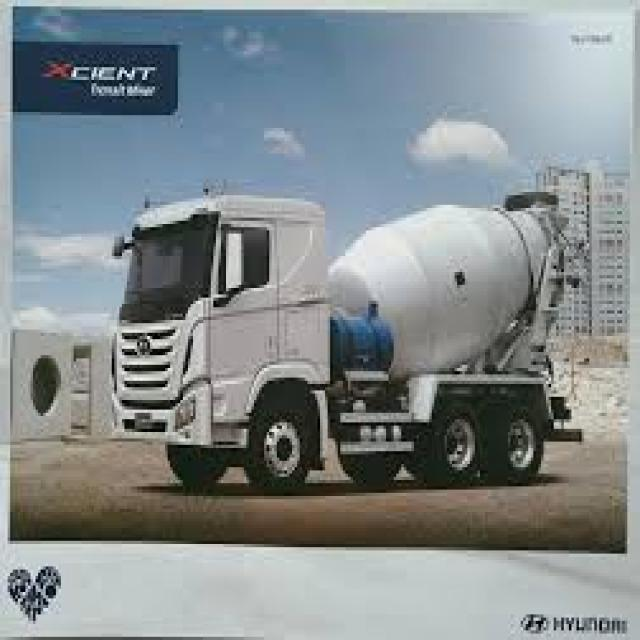Mixer Truck: (105, 180, 592, 495)
